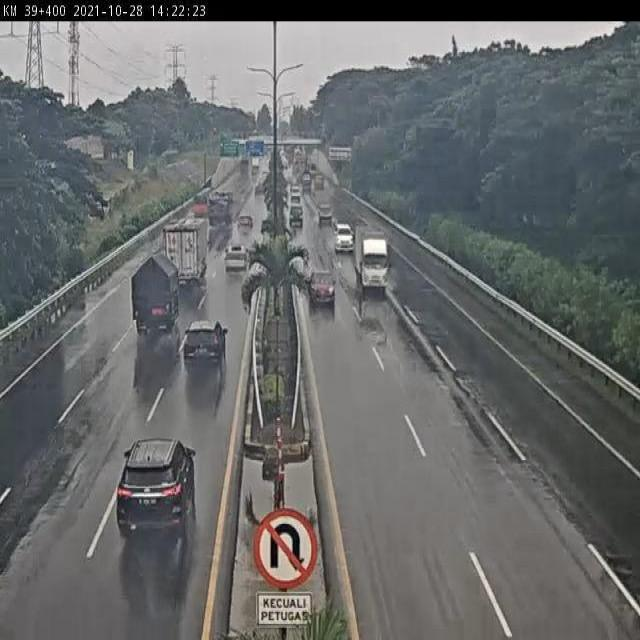car: (223, 240, 249, 277), (316, 202, 334, 226), (236, 214, 254, 234)
truck-l-: (159, 219, 209, 292), (205, 191, 232, 233)
truck-m-: (129, 254, 182, 330)
truck-s-: (352, 227, 390, 296), (187, 196, 208, 227)
